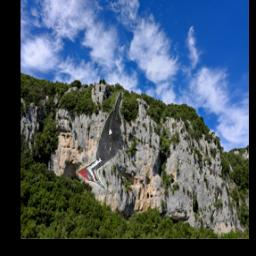Woodpecker: (76, 90, 124, 190)
